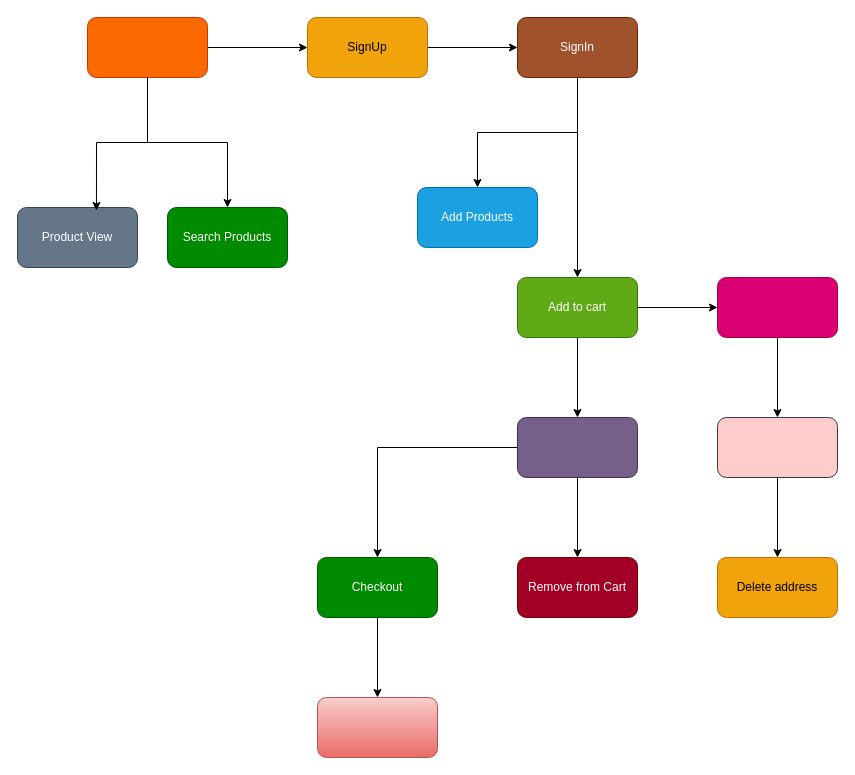
Image size: 855x775. Some labels were removed from this diagram. The centre of each missing label's shape, as x and y in pixels:
"Add Address" goes at point 777,307.
"Edit Address" goes at point 777,447.
"Instantt Purchase" goes at point 377,727.
"List Cart" goes at point 577,447.
"User" goes at point 147,47.
